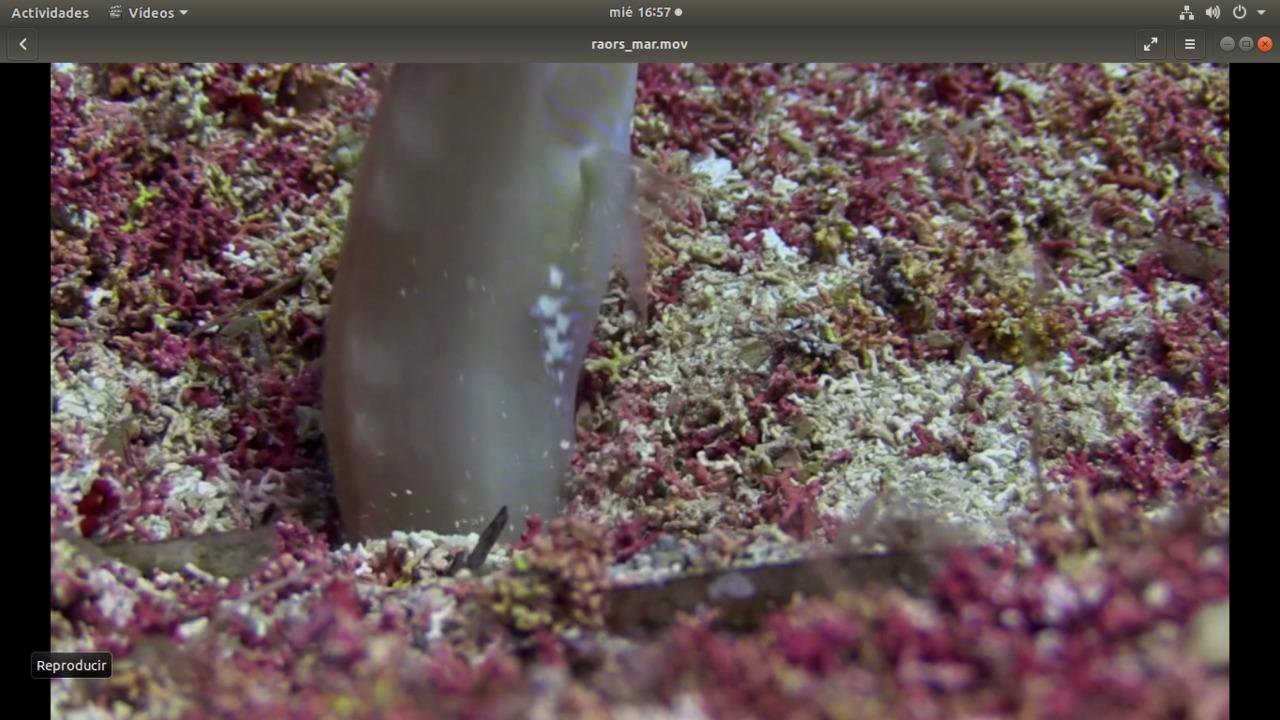raor: (314, 65, 670, 552)
